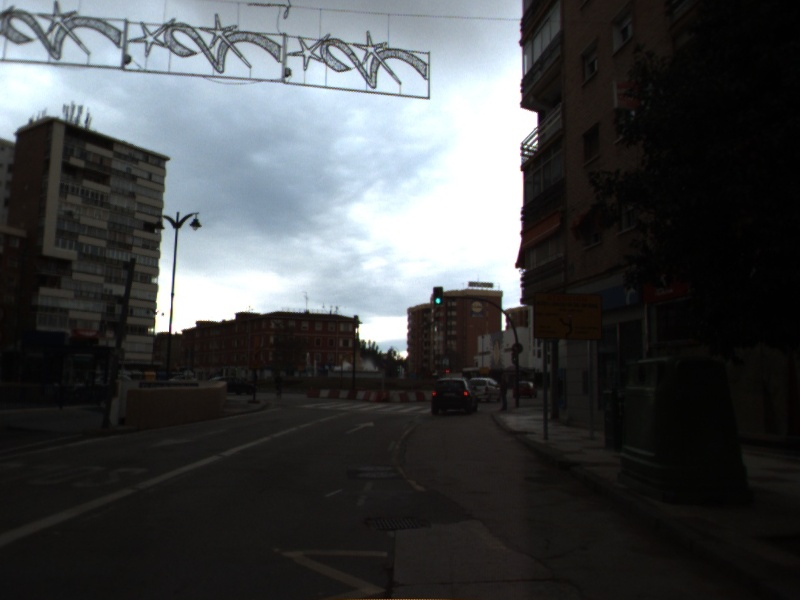STRAIGHT: (342, 419, 377, 436)
